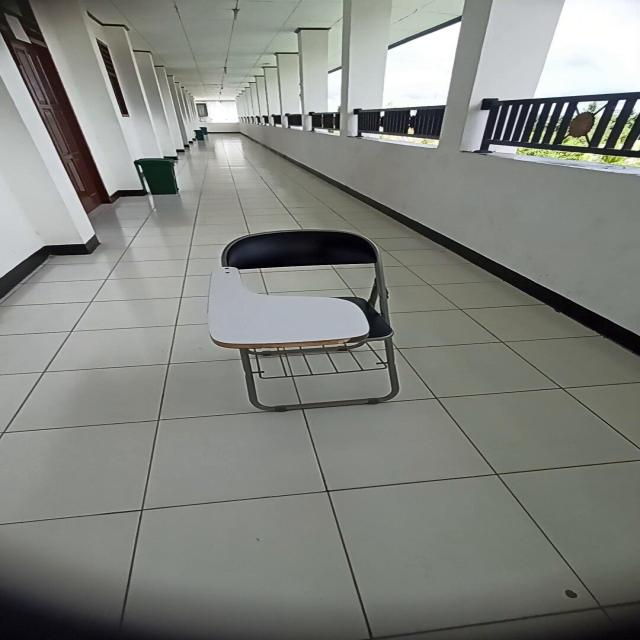chair: (209, 228, 403, 414)
